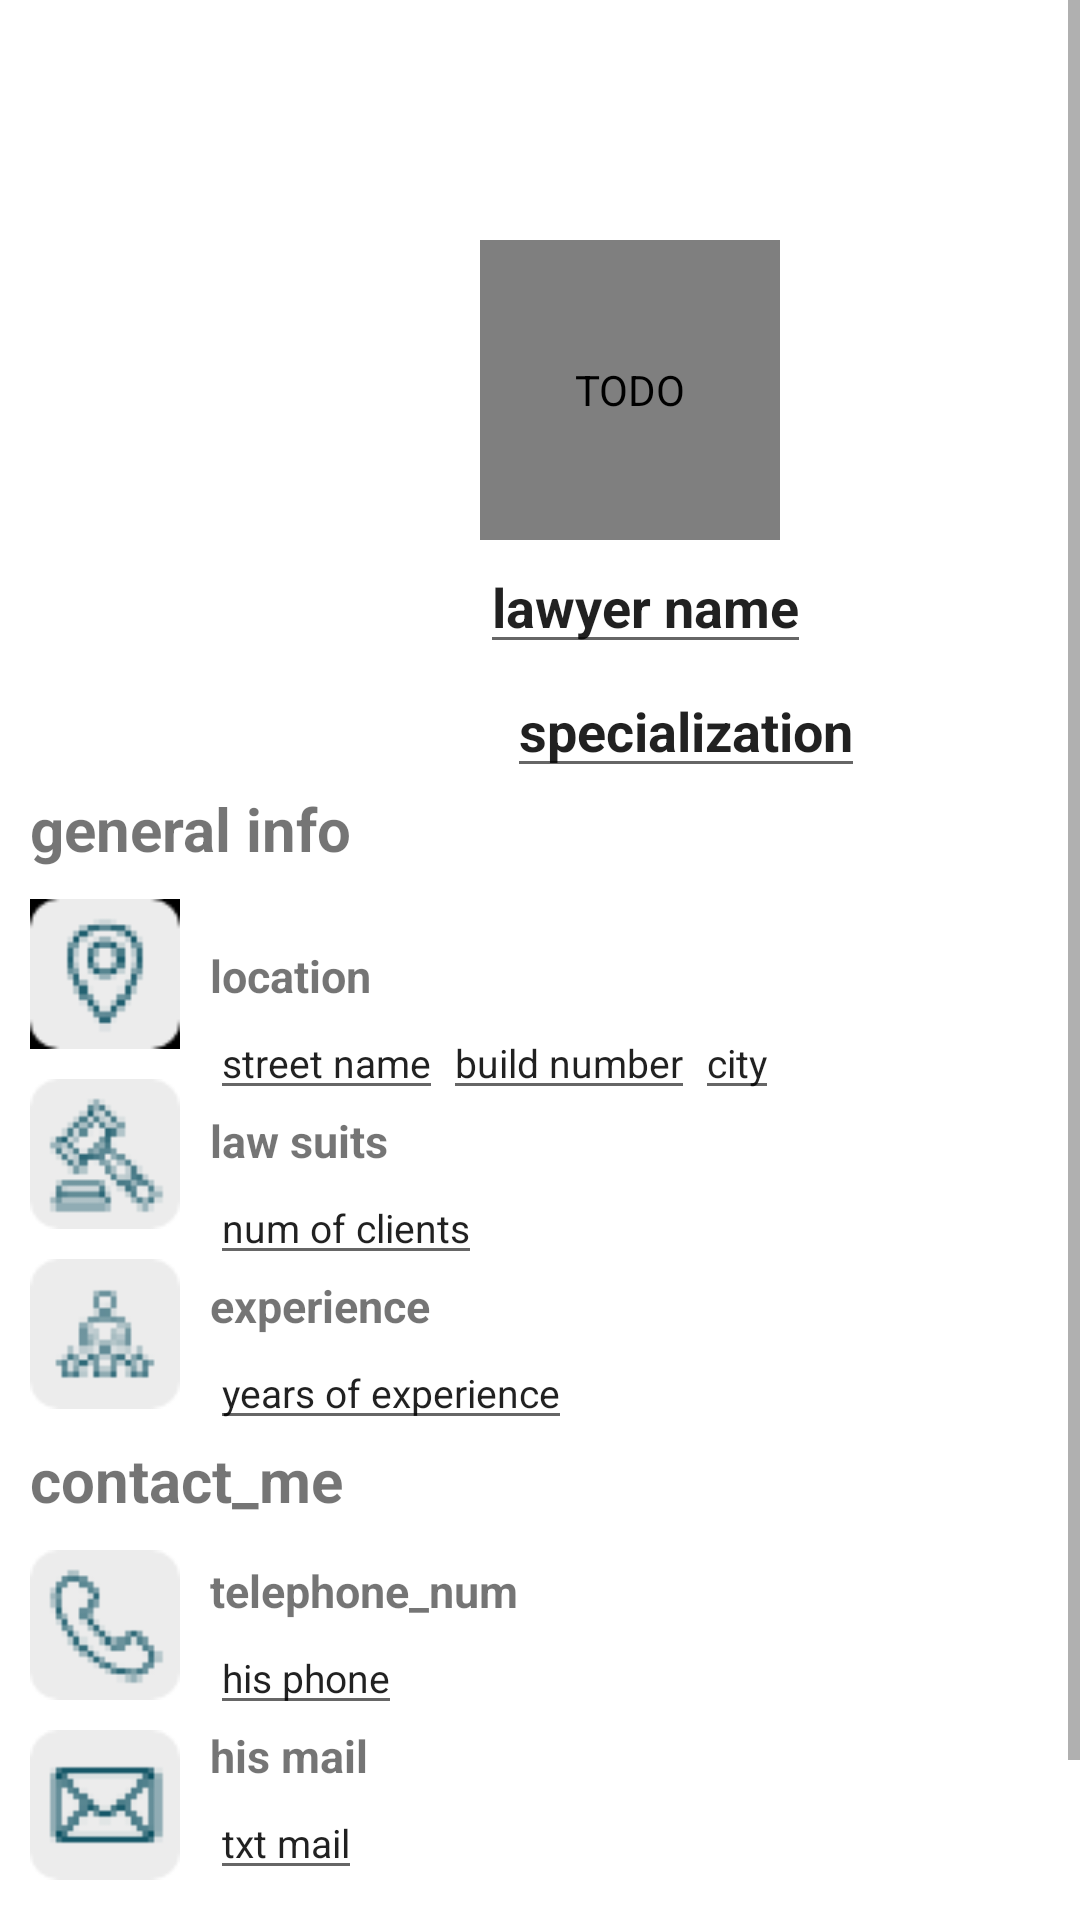

Point at icon controls on the screen. Image size 1080px x 1920px, points as [x,y].
auction: [106,1155]
